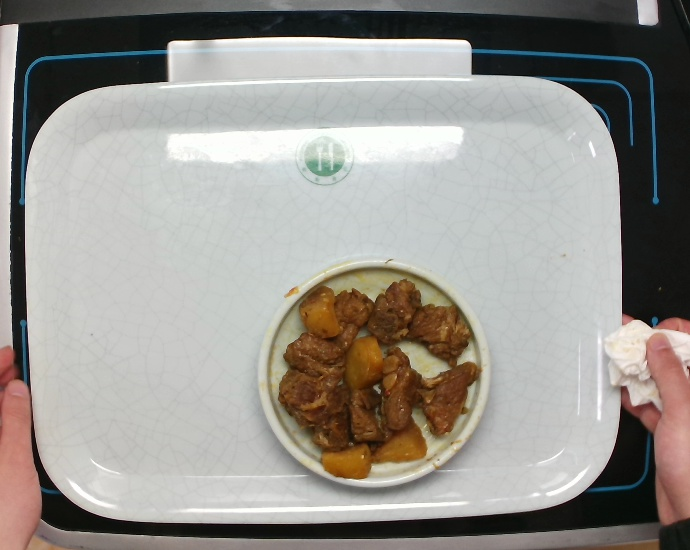JYsf-Xiao_Yuan_Pan: (248, 252, 499, 495)
